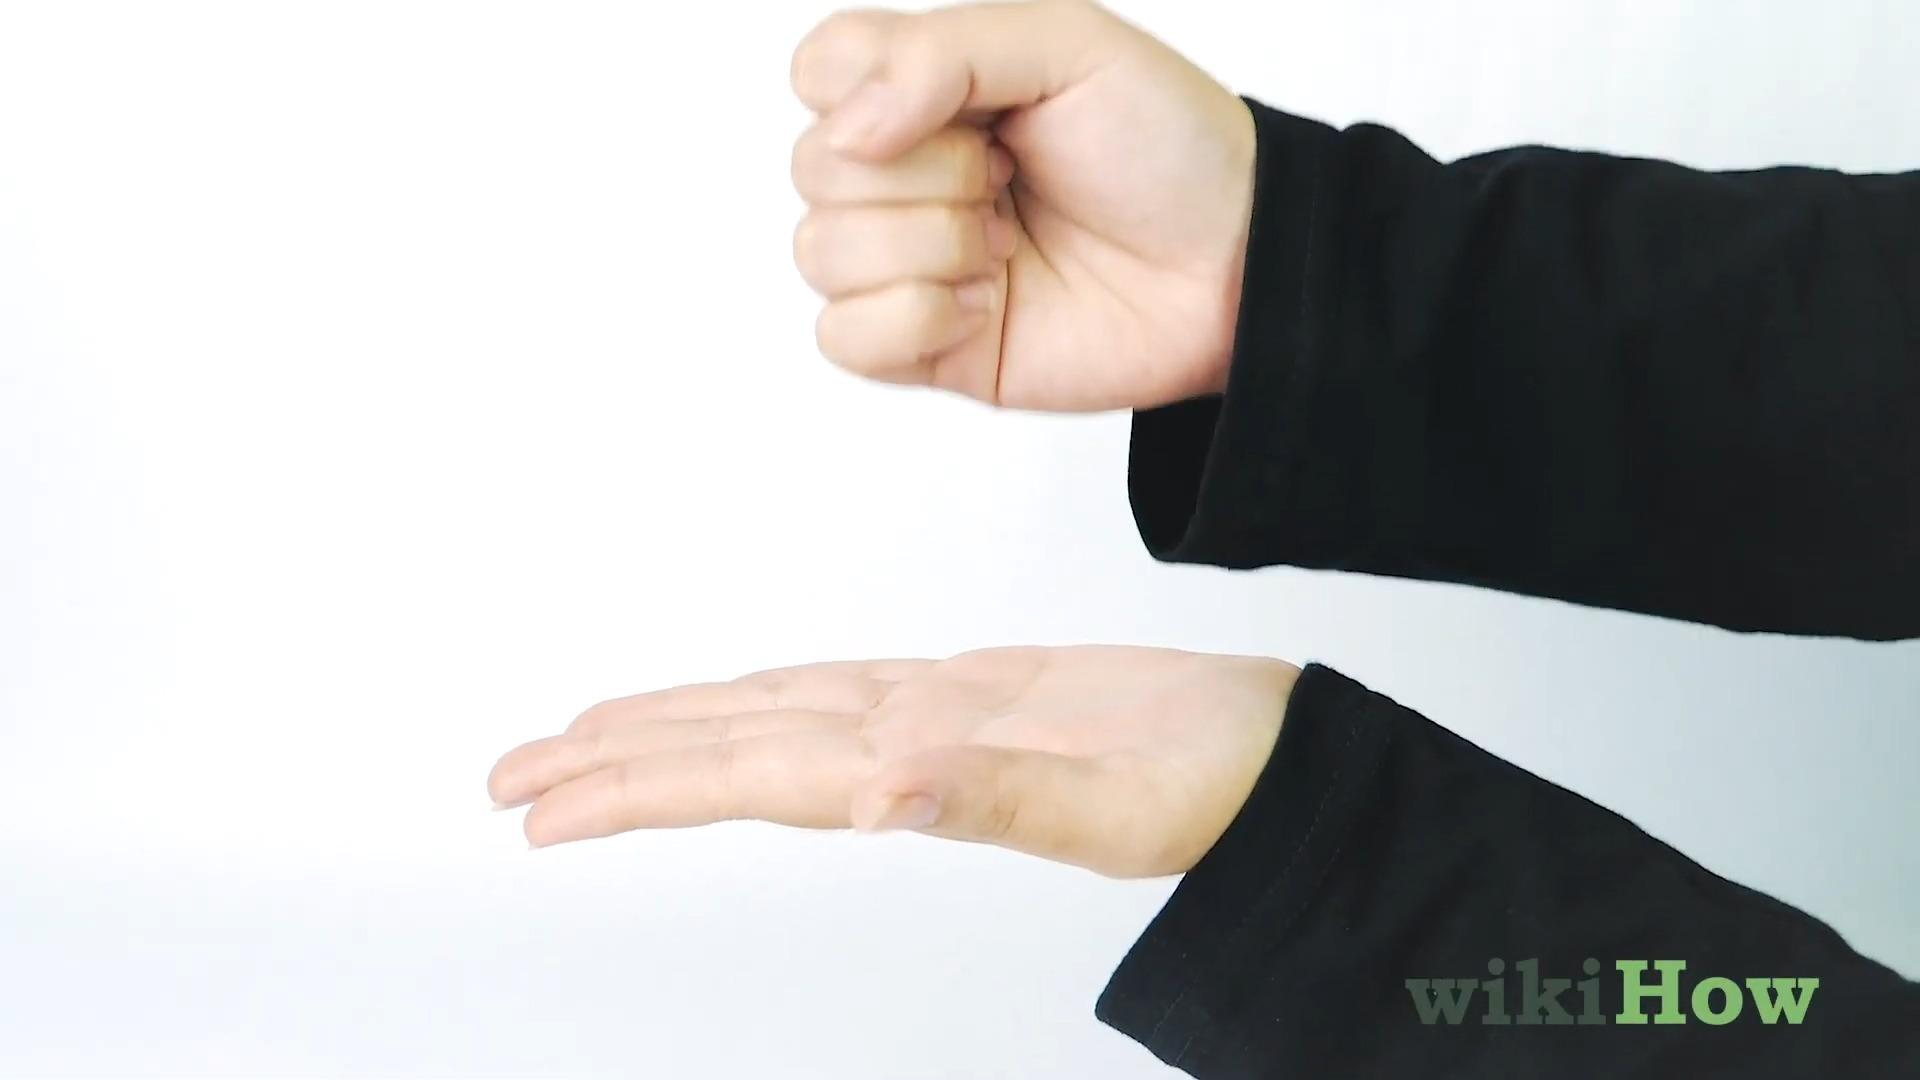Rock: (782, 0, 1247, 417)
